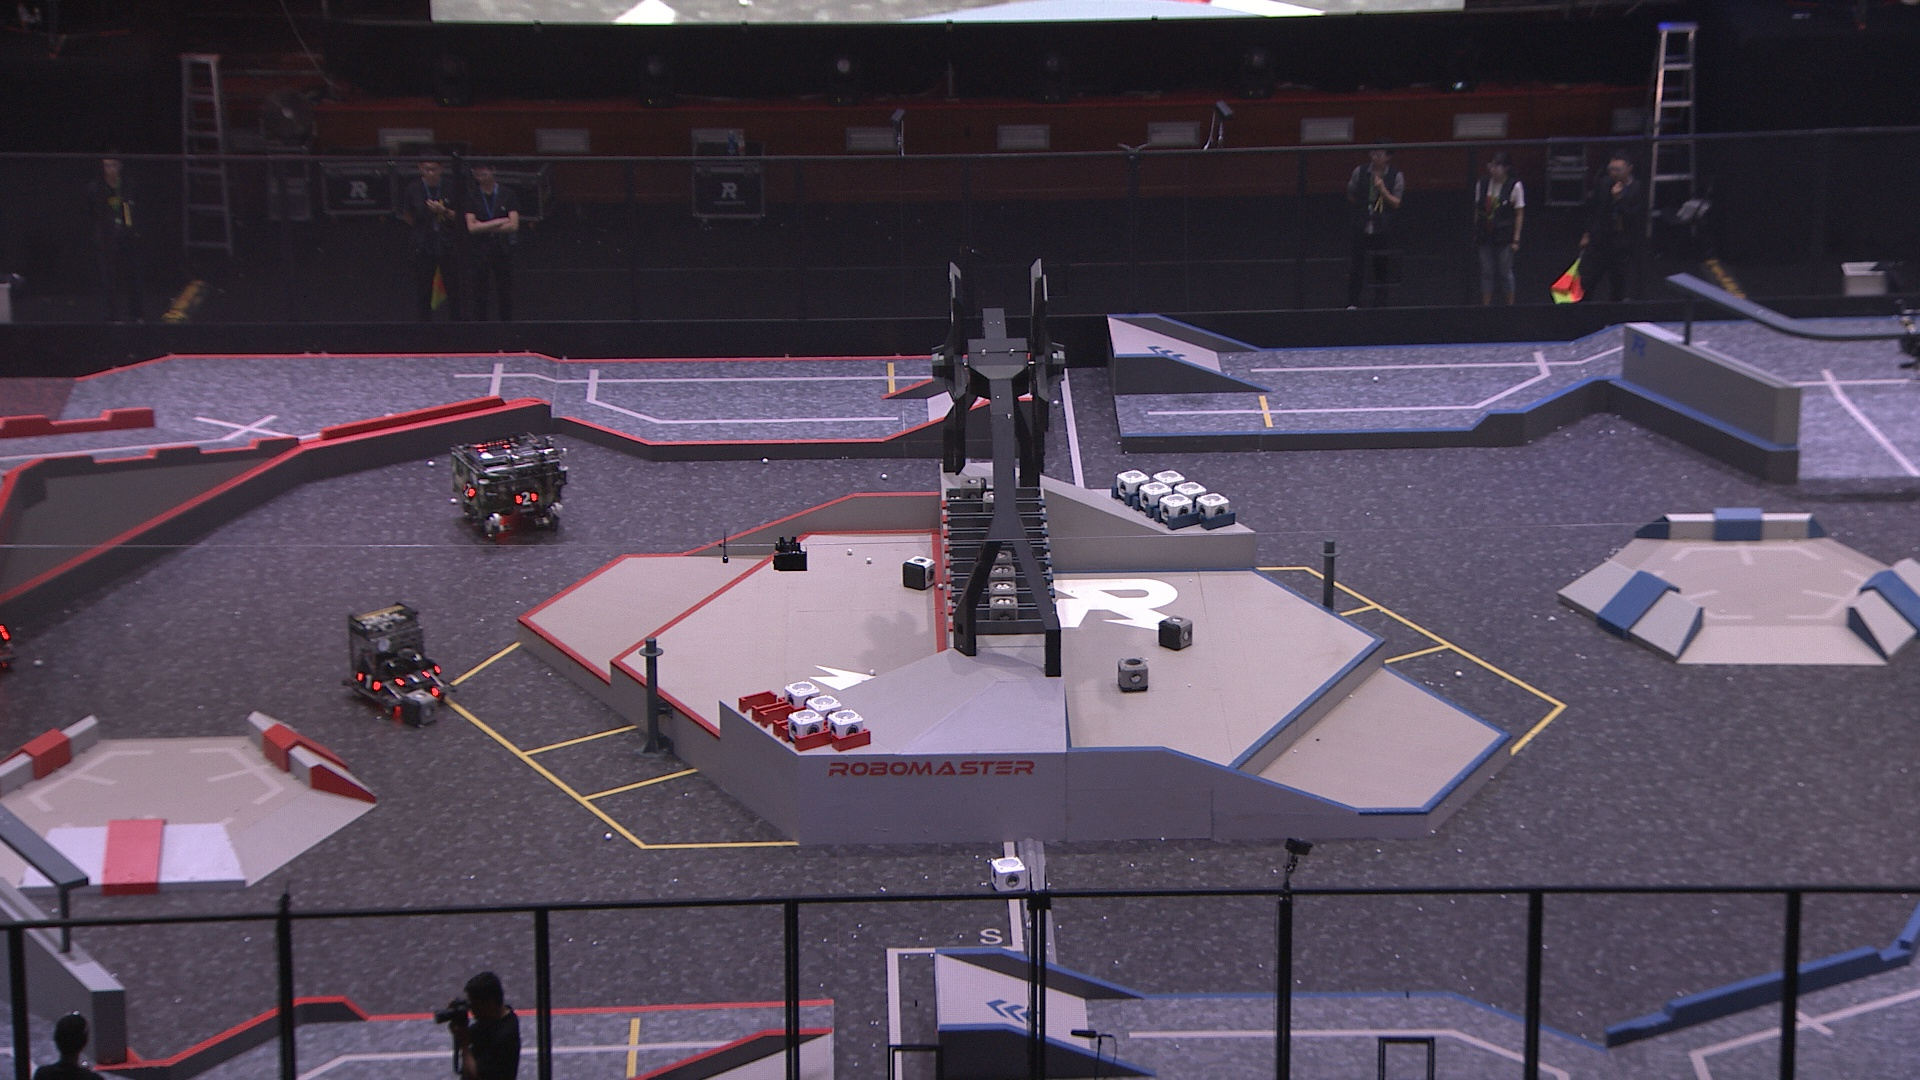armor: (392, 669, 433, 684), (356, 669, 381, 692), (513, 488, 539, 508), (458, 480, 476, 498)
car: (342, 599, 456, 723), (444, 429, 566, 545)
watcher: (1896, 301, 1920, 382)
